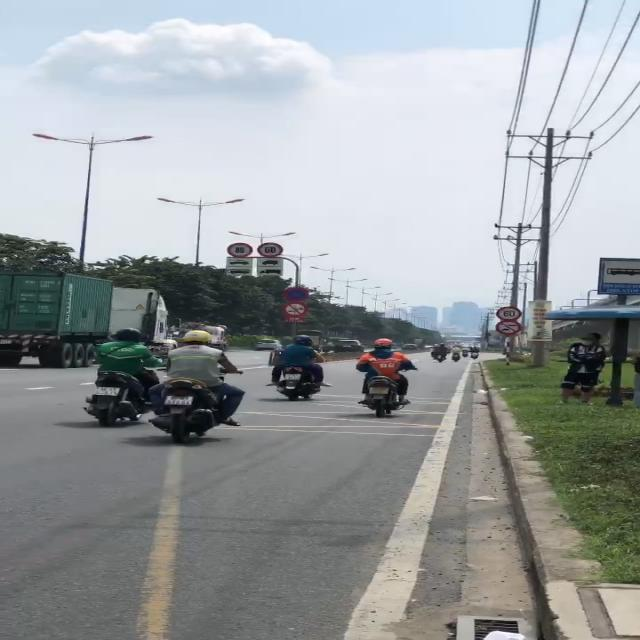Bien bao toc do toi da cho phep: (224, 239, 254, 258), (495, 304, 524, 321), (256, 242, 284, 258)
